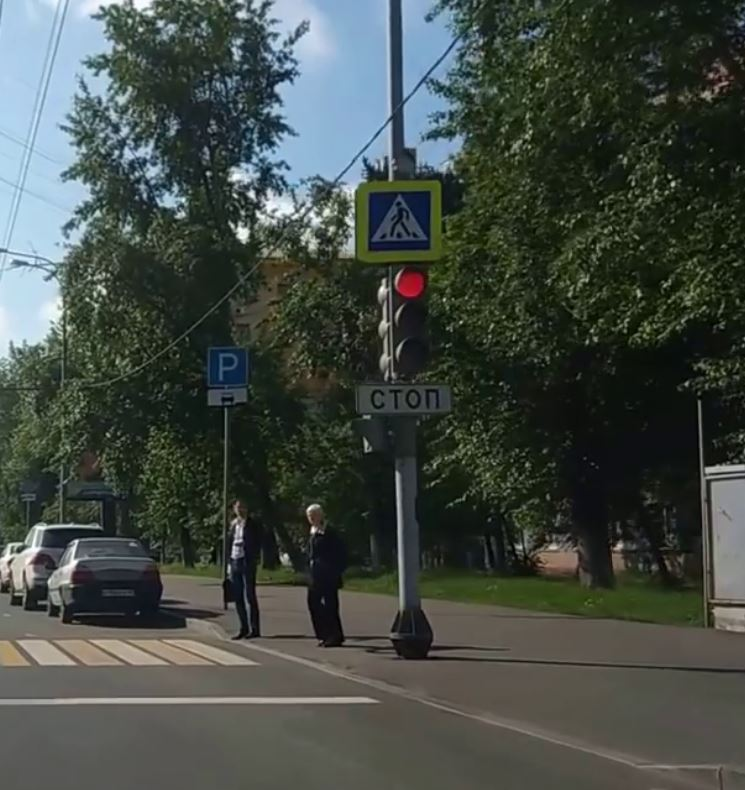Yaya Gecidi: (363, 189, 433, 254)
